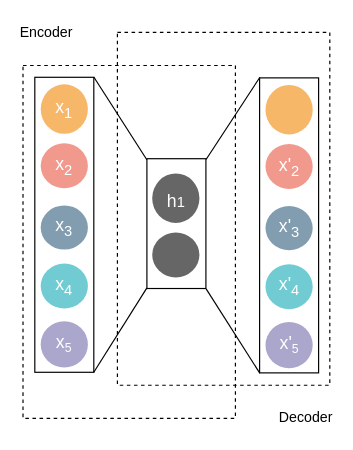
Image size: 353x450. Some labels were removed from this diagram. The centre of each missing label's shape, as x and y in pixels:
"h 2" belongs at (175,254).
"x' 1" belongs at (288,109).
